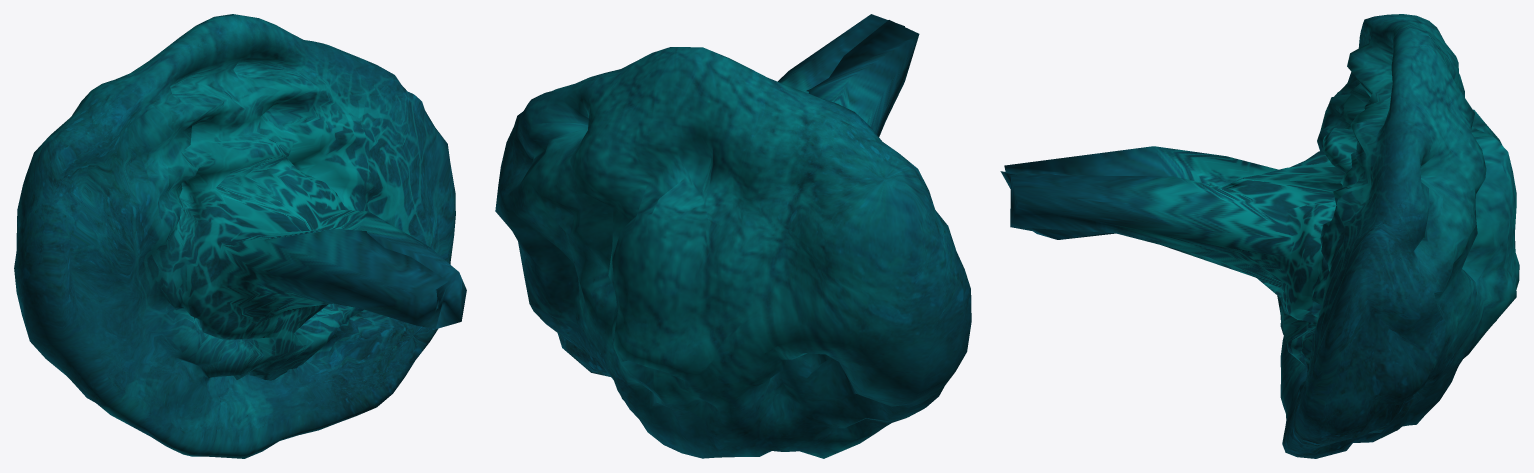
File: mushroom.fbx
3 views of the same model, side by side, from view 1: azimuth 30°, elevation 25°; view 2: azimuth 150°, elevation 25°; view 3: azimuth 270°, elevation 25° (orthographic). The views are drawn at different scales.
Parts seen in each view (by area): view 1: 0b8bbf815416438899410cb2e5ac7af1.obj; view 2: 0b8bbf815416438899410cb2e5ac7af1.obj; view 3: 0b8bbf815416438899410cb2e5ac7af1.obj.
Boxes of the visible parts, x1,y1,x2,y2 form: 0b8bbf815416438899410cb2e5ac7af1.obj: (14,14,466,458); 0b8bbf815416438899410cb2e5ac7af1.obj: (495,14,971,458); 0b8bbf815416438899410cb2e5ac7af1.obj: (1000,14,1519,458).
Bounding box in the file's own units: 42.18 × 37.03 × 44.08.
1 material, 1 textured.
